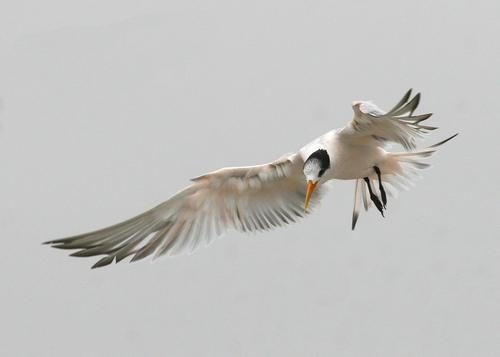bird: (39, 86, 462, 273)
